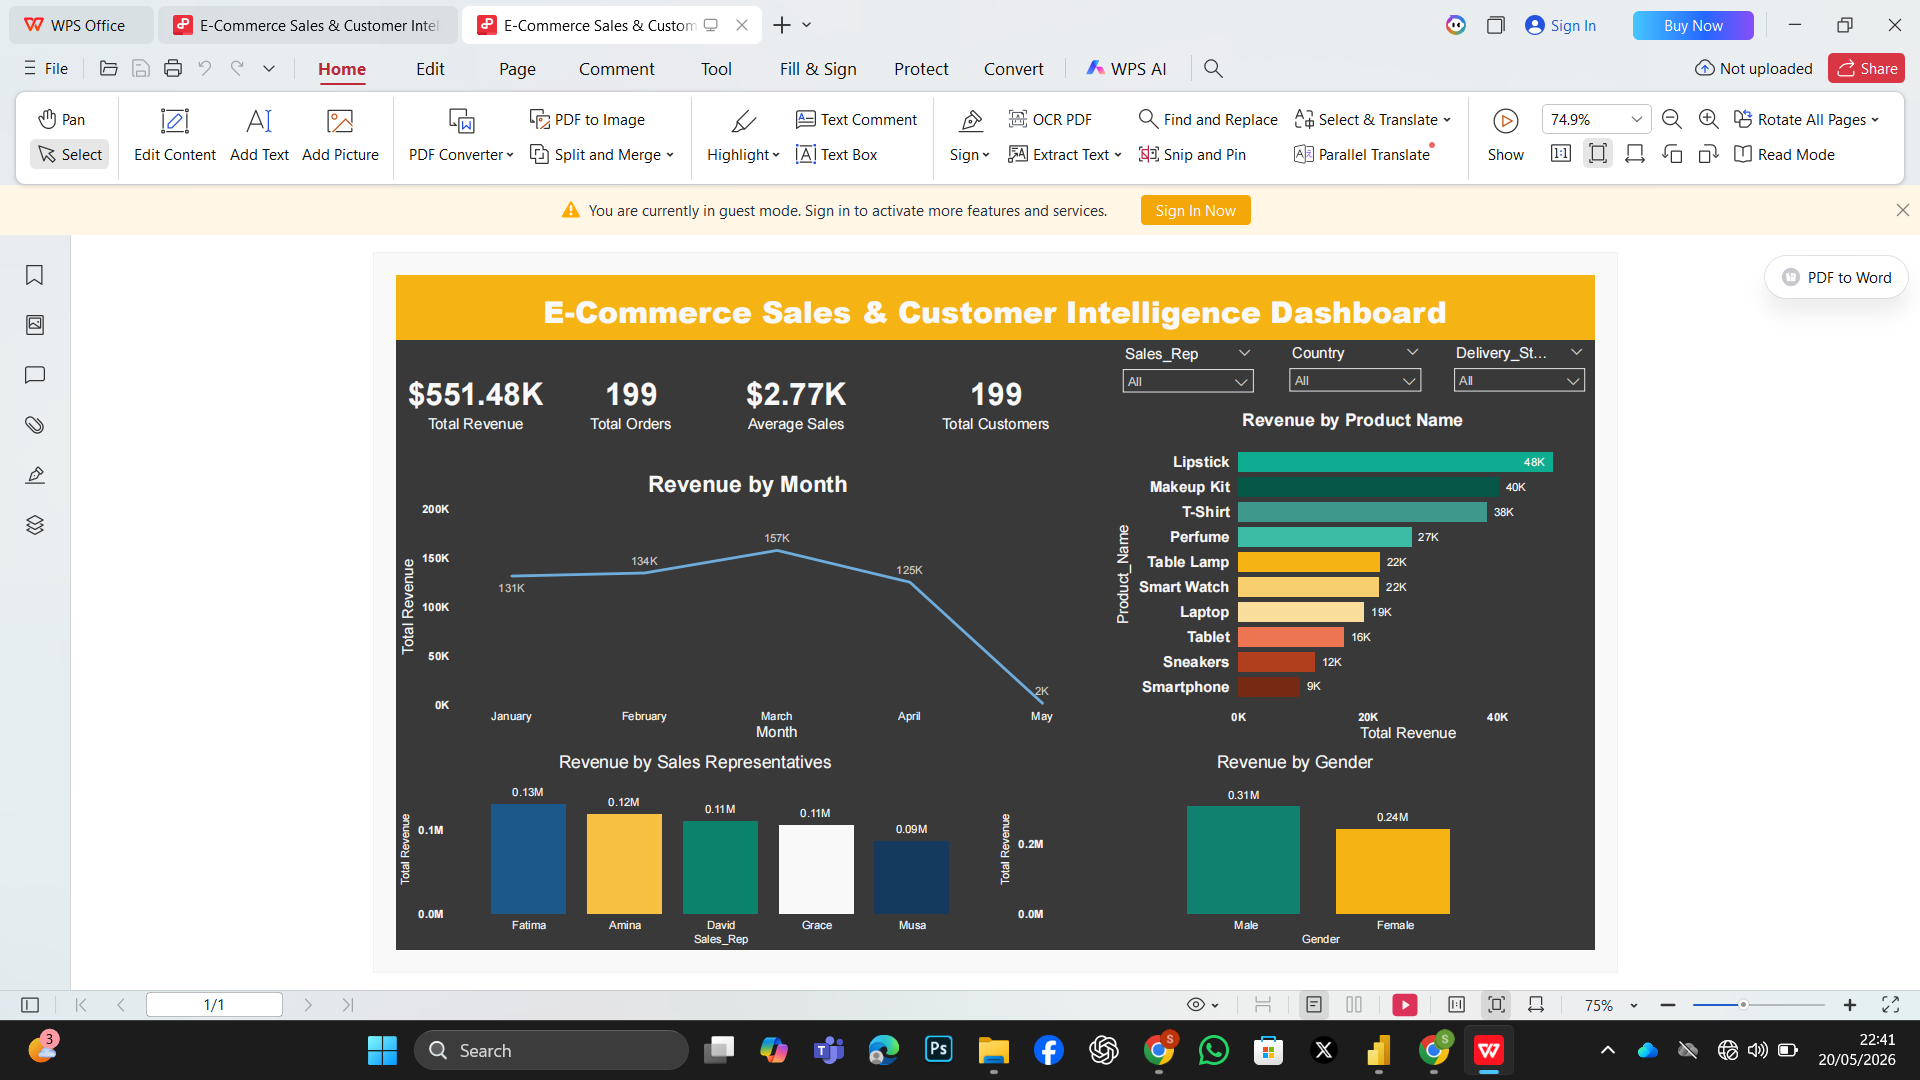

This screenshot's page, from the dashboard's own definition file:
{"tool":"powerbi","page":{"name":"Page 1","canvas":[1280,720],"ordinal":0},"visuals":[{"type":"textbox","box":[0,0,1280.3,68.6],"z":0},{"type":"card","fields":{"Values":["Clean_ecommerce.Total Orders"]},"box":[170.2,68.6,161.9,130.4],"z":1000},{"type":"card","fields":{"Values":["Clean_ecommerce.Total Revenue"]},"box":[0,68.6,170.2,130.4],"z":2000},{"type":"card","fields":{"Values":["Clean_ecommerce.Total Customers"]},"box":[529.7,68.6,222.3,130.4],"z":3000},{"type":"card","fields":{"Values":["Clean_ecommerce.Average Sales"]},"box":[325.2,68.6,204.5,130.4],"z":4000},{"type":"lineChart","title":"Revenue by Month","fields":{"Category":["Clean_ecommerce.Order_Date.Variation.Date Hierarchy.Month","Clean_ecommerce.Order_Date.Variation.Date Hierarchy.Day"],"Y":["Clean_ecommerce.Total Revenue"]},"box":[0,208.6,752,293.7],"z":5000},{"type":"clusteredBarChart","title":"Revenue by Product Name","fields":{"Category":["Clean_ecommerce.Product_Name"],"Y":["Clean_ecommerce.Total Revenue"]},"box":[764.3,144.1,516,358.1],"z":6000},{"type":"columnChart","title":"Revenue by Sales Representatives","fields":{"Category":["Clean_ecommerce.Sales_Rep"],"Y":["Clean_ecommerce.Total Revenue"]},"box":[0,508.7,639.5,211.3],"z":7000},{"type":"slicer","fields":{"Values":["Clean_ecommerce.Sales_Rep"]},"box":[765.7,70,160.5,65.9],"z":8000},{"type":"slicer","fields":{"Values":["Clean_ecommerce.Country"]},"box":[944.1,68.6,160.5,65.9],"z":9000},{"type":"slicer","fields":{"Values":["Clean_ecommerce.Delivery_Status"]},"box":[1119.7,68.6,160.5,65.9],"z":10000},{"type":"columnChart","title":"Revenue by Gender","fields":{"Category":["Clean_ecommerce.Gender"],"Y":["Clean_ecommerce.Total Revenue"]},"box":[640.8,509.1,639.5,211.3],"z":11000}]}

Visuals, with their boxes on the page's 1280x720 design canvas (x1, y1, x2, y2). These are canvas units, not pixel positions in the 1920x1080 screenshot, which may show the page scaled, cropped or inside an application window:
textbox: (0,0,1280,69)
card - Clean_ecommerce.Total Orders: (170,69,332,199)
card - Clean_ecommerce.Total Revenue: (0,69,170,199)
card - Clean_ecommerce.Total Customers: (530,69,752,199)
card - Clean_ecommerce.Average Sales: (325,69,530,199)
"Revenue by Month" lineChart: (0,209,752,502)
"Revenue by Product Name" clusteredBarChart: (764,144,1280,502)
"Revenue by Sales Representatives" columnChart: (0,509,640,720)
slicer - Clean_ecommerce.Sales_Rep: (766,70,926,136)
slicer - Clean_ecommerce.Country: (944,69,1105,134)
slicer - Clean_ecommerce.Delivery_Status: (1120,69,1280,134)
"Revenue by Gender" columnChart: (641,509,1280,720)
